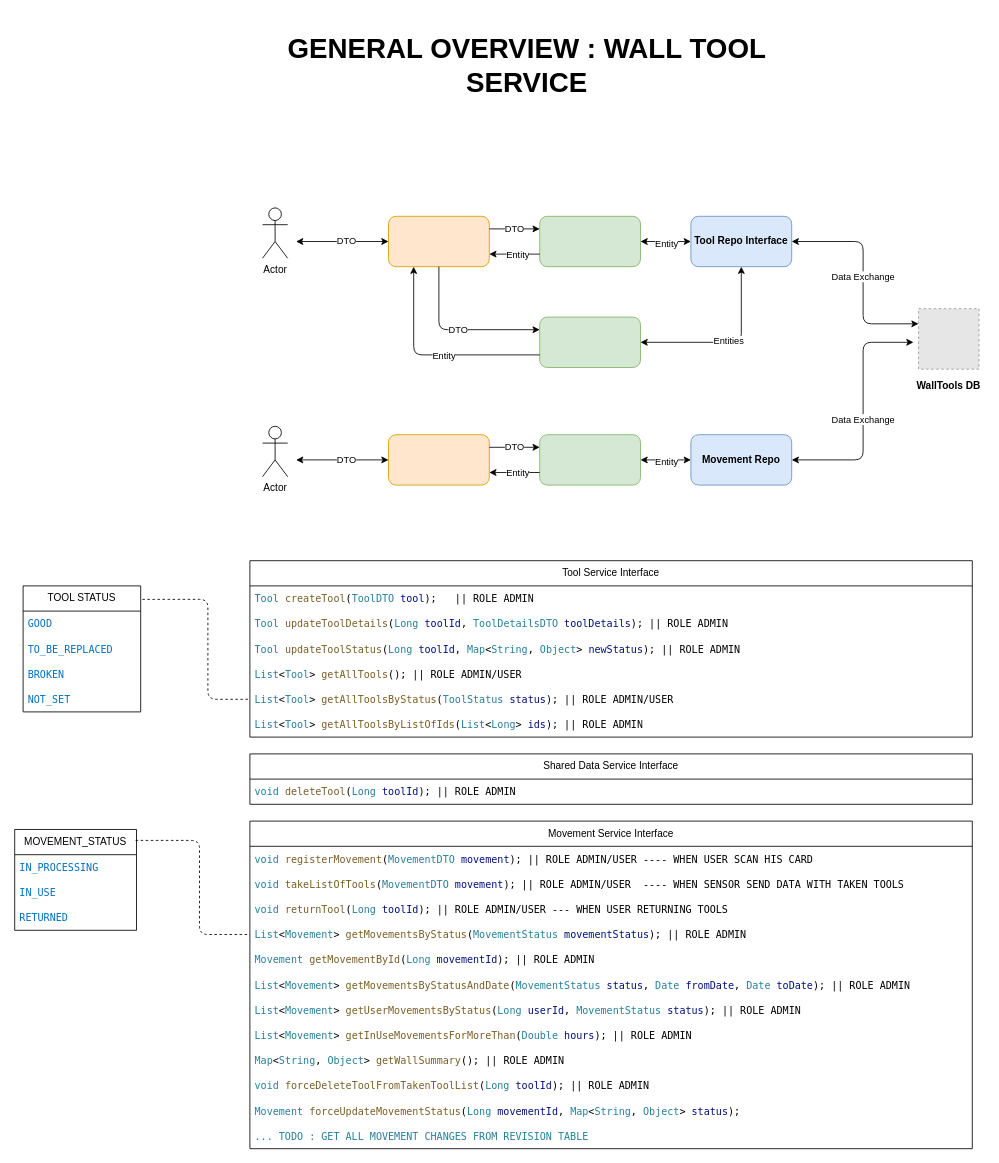
Image size: 999x1163. Some labels were removed from this diagram. Grey dashed boxes stand in for pictures. The shapes that lost their labels are listed below. From the top down, each one's centre as x and y in pixels, then its label:
At [438,241]: "Tool Controller".
At [589,241]: "Tool Service".
At [589,342]: "Shared Data Service".
At [438,459]: "Movement Controller".
At [589,459]: "Movement Service".
